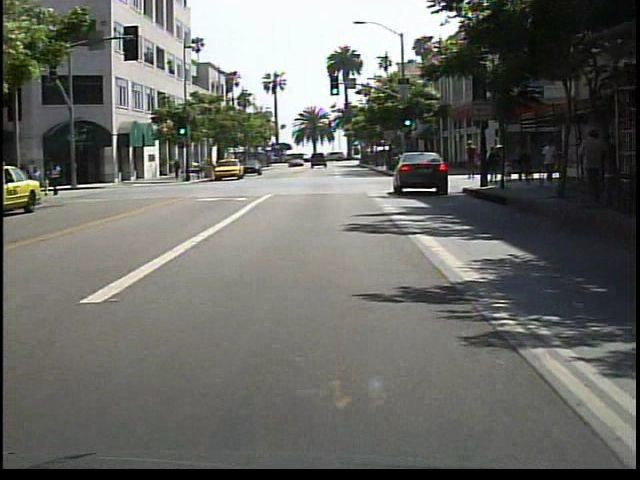person: (49, 160, 70, 201), (463, 138, 480, 185)
